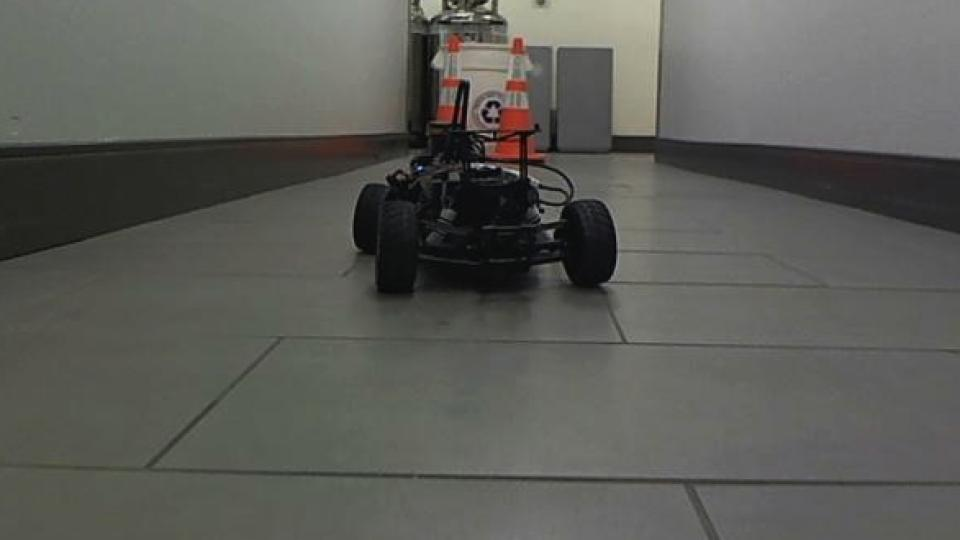car: (348, 76, 620, 296)
